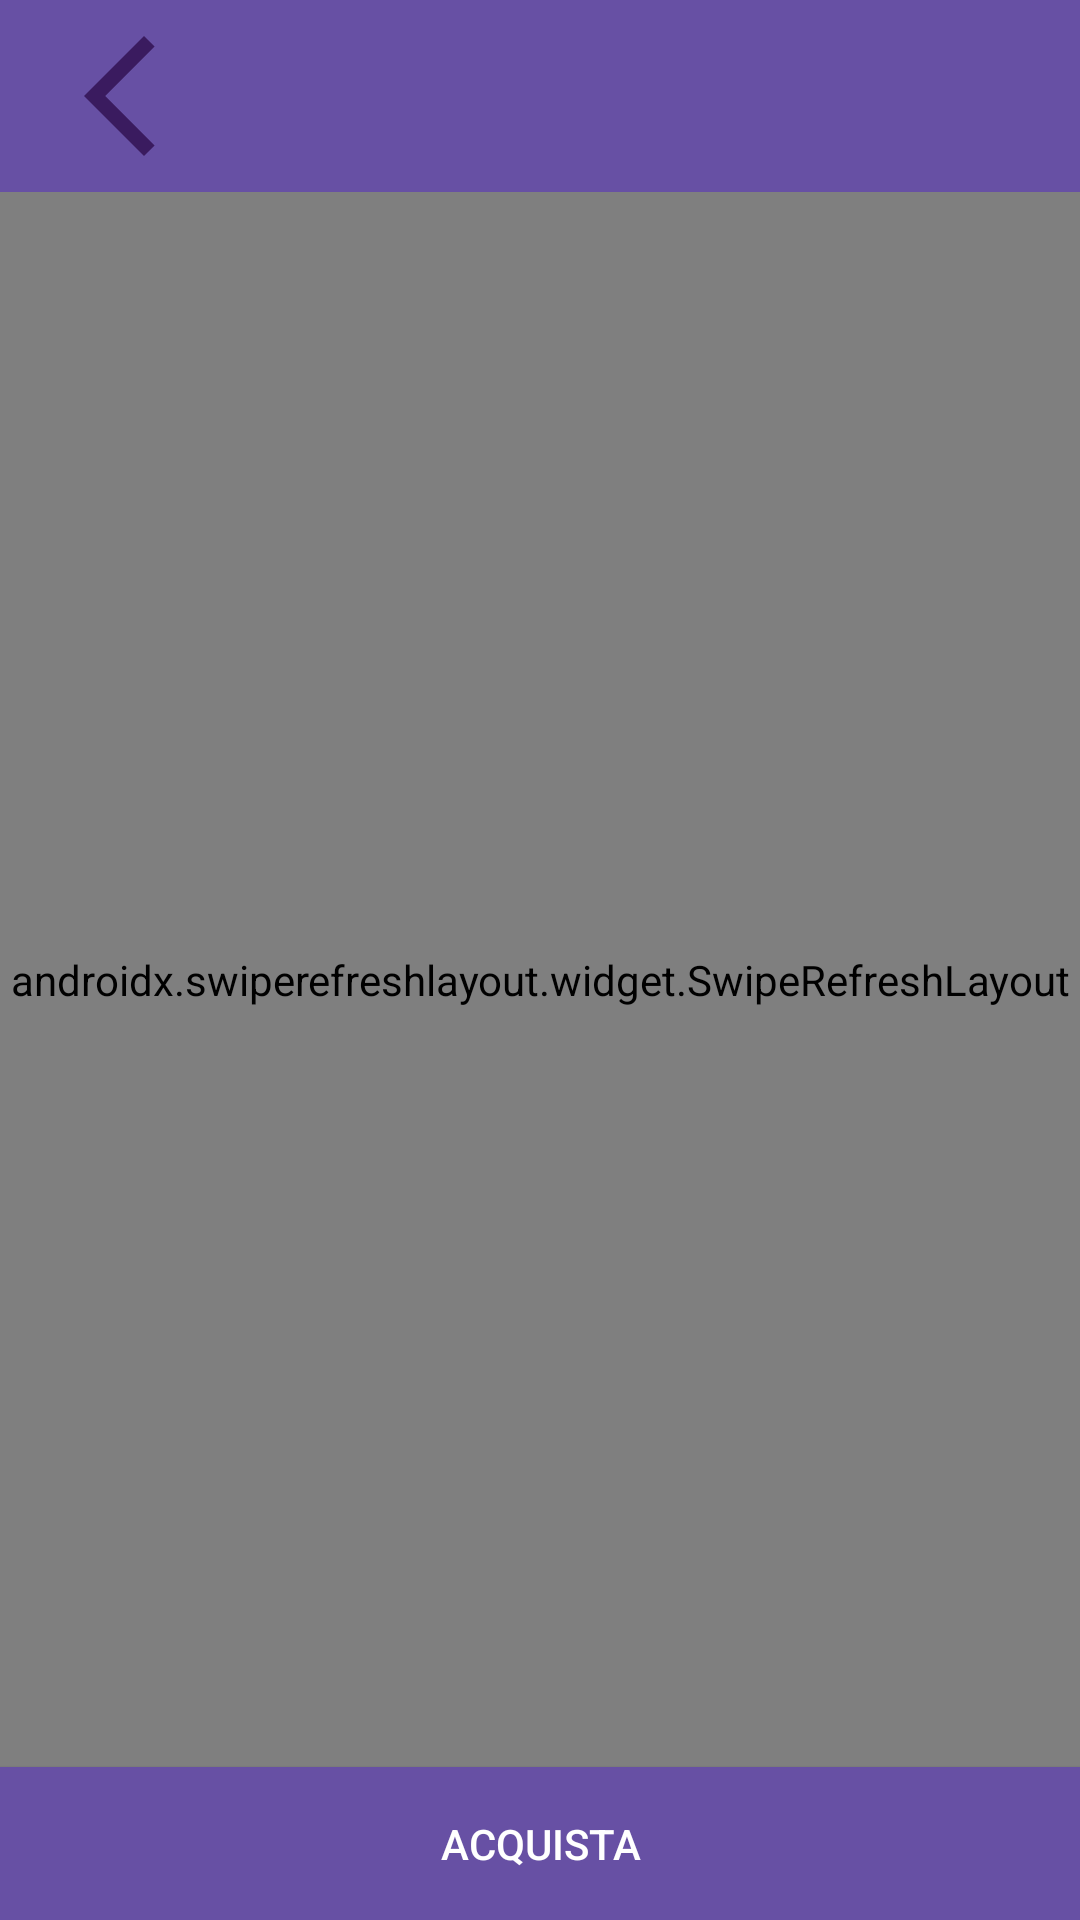

Point at icon controls on the screen. Image size 1080 x 1920, points as [x,y].
arrow back: [119,96]
